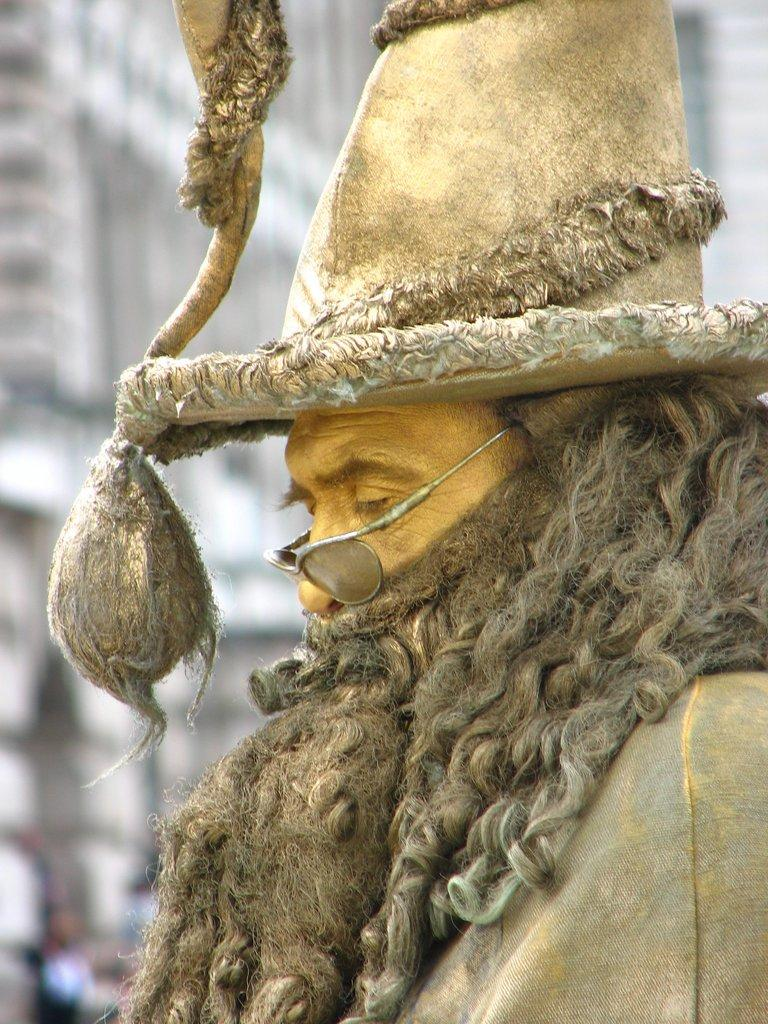Hat: (43, 0, 767, 788)
